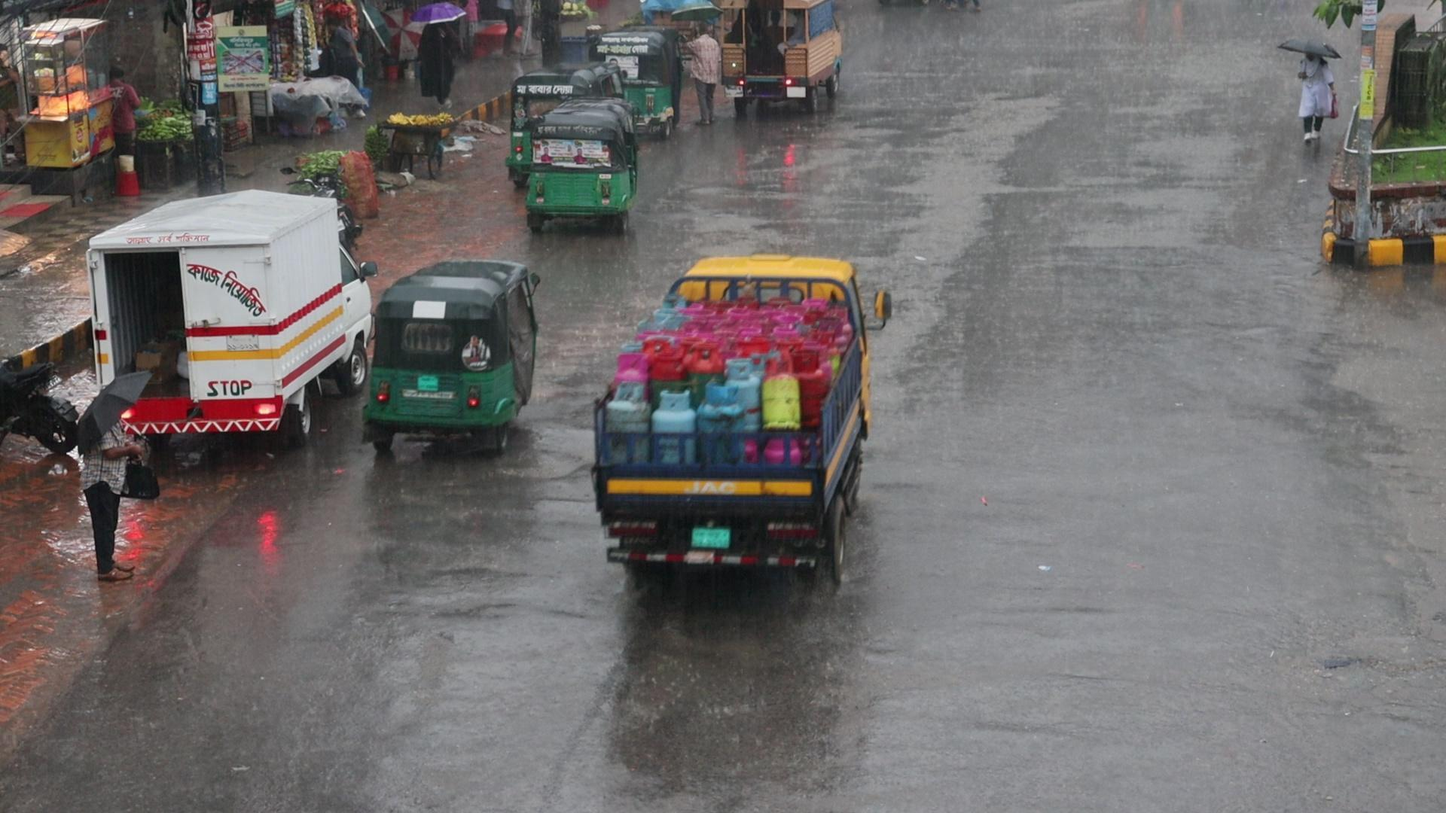Truck: (574, 247, 879, 622)
